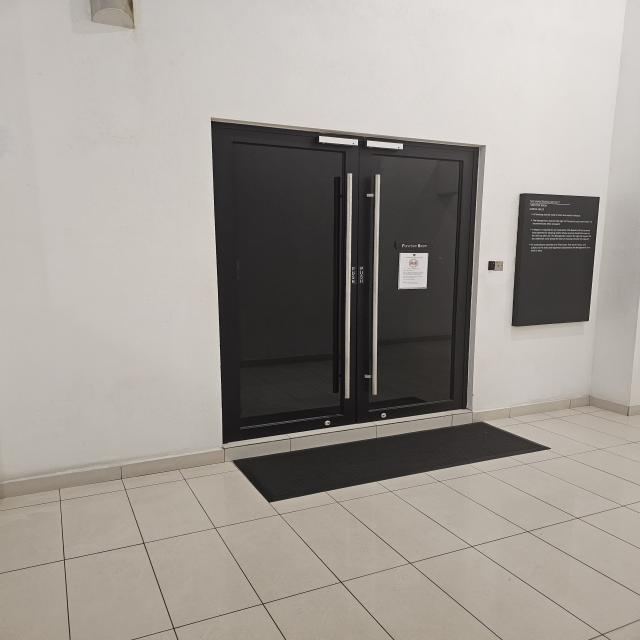door: (208, 116, 488, 447)
footpath: (11, 445, 640, 640)
